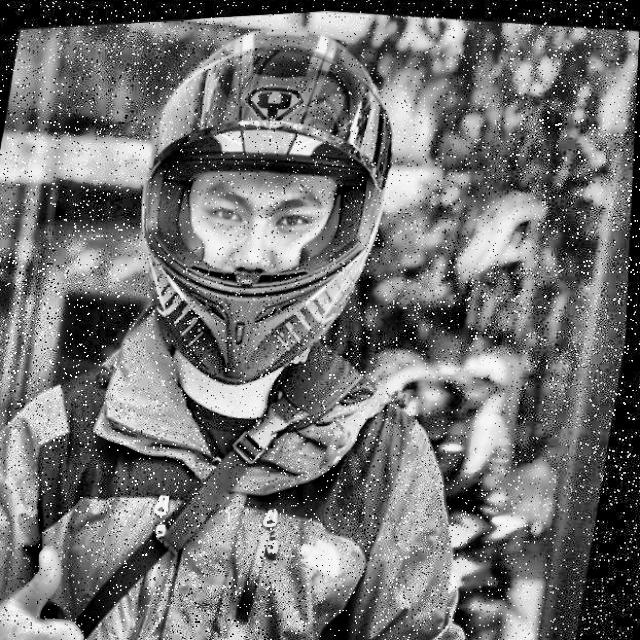Helmet: (109, 3, 422, 407)
